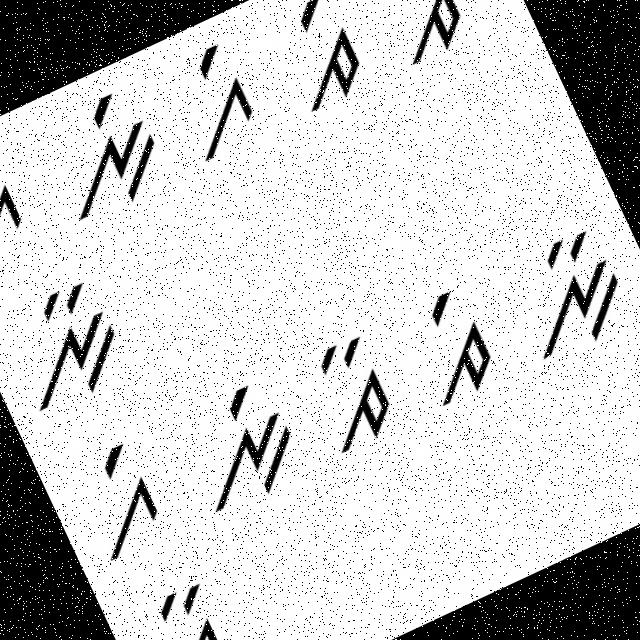gan: (124, 572, 250, 639), (0, 142, 48, 281)
gang: (154, 35, 276, 168), (62, 432, 179, 566)
ngan: (488, 218, 639, 377), (0, 274, 141, 423)
ngang: (164, 366, 315, 520), (30, 79, 178, 227)
tan: (296, 328, 412, 456), (364, 0, 485, 69)
tang: (388, 278, 510, 414), (261, 0, 382, 121)
